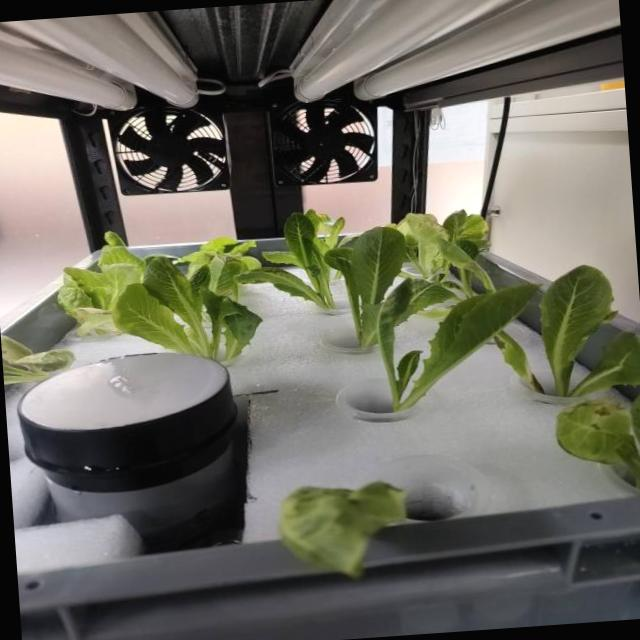Lettuce-Not-Ready-to-Harvest: (375, 279, 538, 410), (112, 256, 262, 360), (539, 265, 640, 396), (279, 481, 405, 576), (324, 226, 406, 347), (238, 212, 334, 308), (57, 232, 144, 337), (409, 210, 495, 313), (555, 394, 640, 488), (177, 236, 261, 300), (395, 213, 450, 283), (1, 335, 75, 384), (493, 331, 542, 390), (306, 209, 353, 253)
